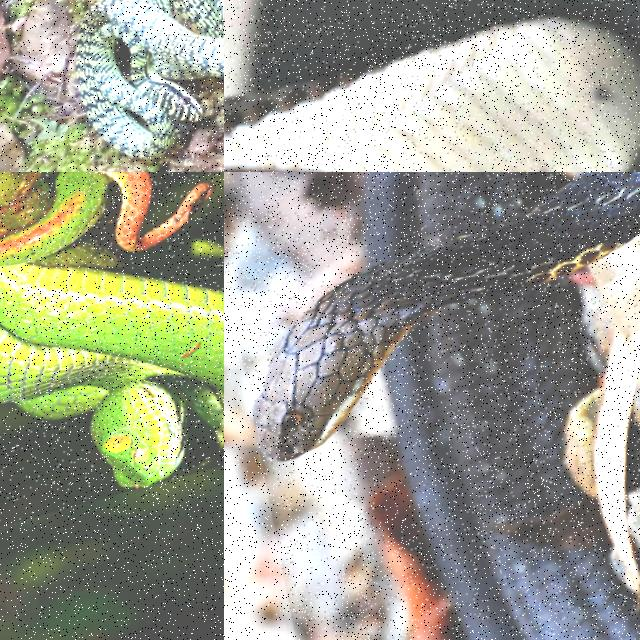Chrysopelea ornata: (76, 0, 223, 157)
Naja siamensis: (224, 18, 639, 171)
Ophiophagus hannah: (254, 172, 639, 639)
Trimeresurus macrops: (0, 172, 223, 486)
snake: (254, 172, 639, 639), (0, 172, 223, 486), (224, 18, 639, 171), (76, 0, 223, 157)
